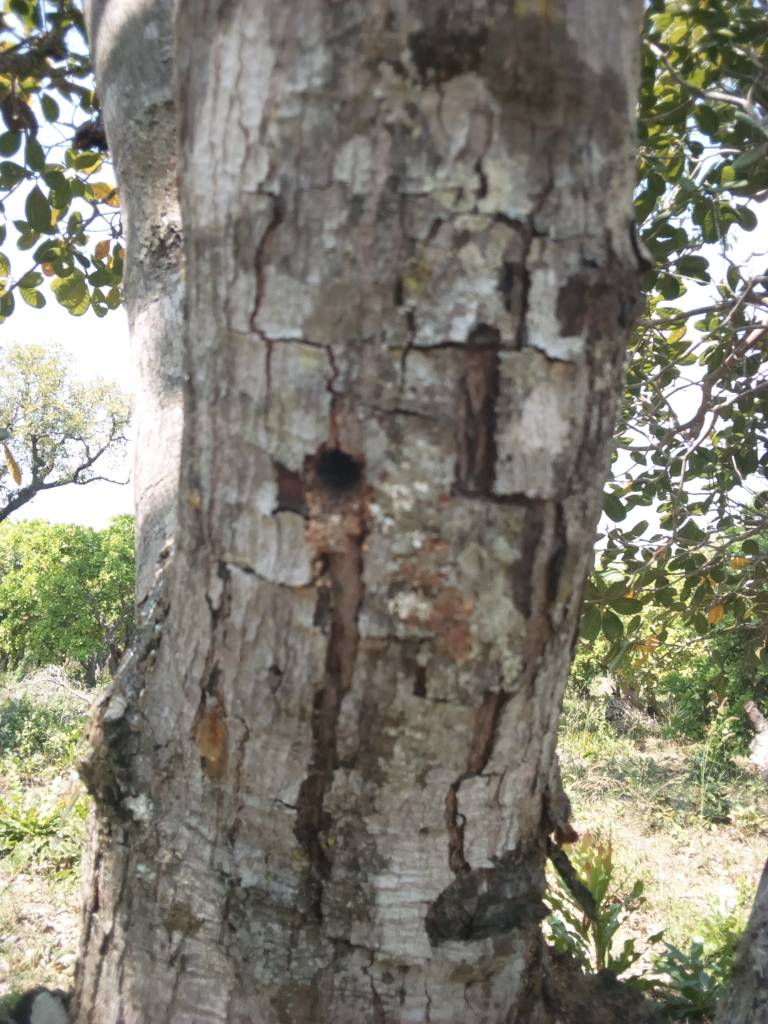Apate terebrans: (260, 420, 399, 539)
